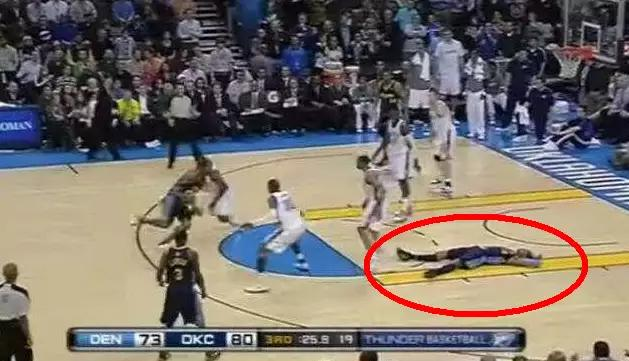10+: (1, 1, 629, 360)
down: (392, 241, 547, 277)
